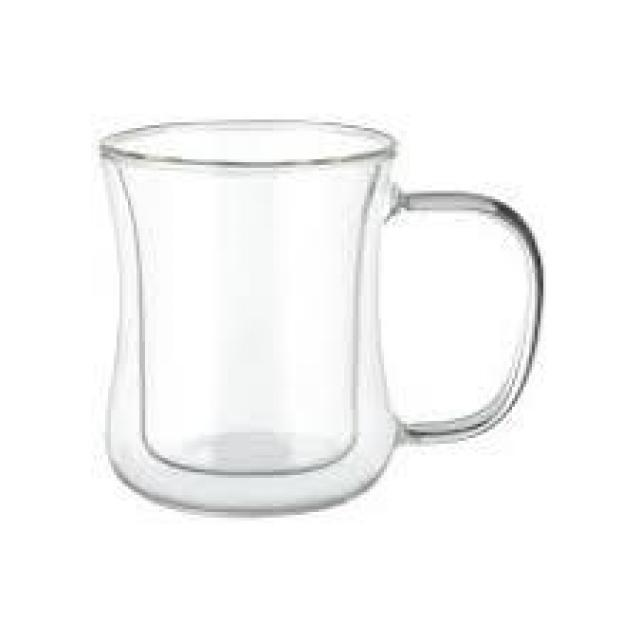non-organic waste: (97, 117, 546, 514)
